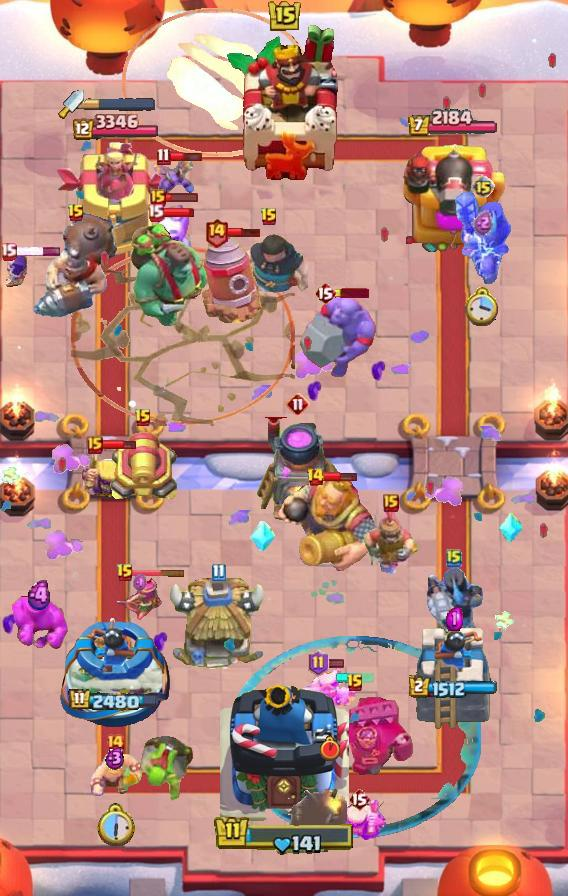archer: (88, 752, 142, 800)
archer-queen: (298, 292, 380, 380)
arrows: (303, 666, 357, 720), (332, 799, 389, 849), (82, 448, 130, 500)
baby-dragon: (288, 789, 347, 852)
bar: (54, 142, 173, 256)
bar-level: (138, 733, 196, 805)
cannon: (115, 577, 165, 623)
clock: (214, 816, 354, 857)
earthquake: (364, 504, 418, 576)
electro-spirit: (25, 581, 55, 612), (473, 210, 493, 235), (105, 746, 125, 770), (446, 607, 463, 631), (133, 573, 147, 592)
elixir: (95, 803, 135, 847), (465, 286, 501, 327), (320, 735, 340, 760)
emote: (9, 246, 62, 258), (132, 567, 186, 577), (101, 438, 137, 451), (169, 149, 204, 162), (322, 470, 358, 482), (163, 192, 199, 203), (226, 227, 262, 238), (161, 206, 195, 217), (333, 288, 369, 298), (326, 658, 345, 669)
giant-skeleton: (277, 478, 385, 574)
goblin: (3, 251, 29, 287)
guard: (71, 246, 295, 426)
hunter: (253, 417, 343, 525)
ice-spirit: (335, 673, 375, 683)
ice-wizard: (122, 7, 311, 157)
inferno-dragon: (424, 564, 484, 660), (454, 190, 512, 284)
inferno-tower: (295, 696, 415, 780)
king-tower: (219, 678, 349, 826), (224, 23, 344, 181)
king-tower-bar: (84, 97, 156, 111)
lava-hound: (129, 217, 209, 329)
magic-archer: (202, 230, 262, 324)
mirror: (151, 202, 193, 252)
pad_0: (229, 635, 481, 839)
pad_2: (498, 512, 524, 544), (249, 521, 275, 553)
prince: (167, 578, 269, 674)
queen-tower: (54, 614, 173, 730), (409, 616, 497, 731)
royal-delivery: (151, 155, 195, 201)
royal-hog: (230, 232, 308, 300)
royal-recruit: (107, 431, 179, 505)
selected: (407, 110, 499, 139), (70, 114, 158, 142), (68, 687, 160, 713), (410, 676, 499, 700)
text: (204, 217, 229, 248), (471, 175, 495, 199), (286, 392, 310, 416), (307, 650, 328, 676), (314, 281, 336, 305), (348, 787, 370, 811), (306, 467, 326, 487), (105, 733, 125, 753), (67, 203, 85, 223), (260, 207, 278, 227), (134, 408, 152, 428), (116, 563, 134, 583), (346, 673, 364, 693), (147, 203, 165, 221), (446, 548, 462, 568), (150, 189, 166, 207), (0, 243, 16, 261), (87, 436, 103, 454), (383, 494, 399, 512), (156, 147, 171, 165), (211, 563, 225, 581)
tornado: (12, 591, 68, 651)
tower-bar: (399, 138, 507, 256)
wizard: (32, 212, 120, 320)
